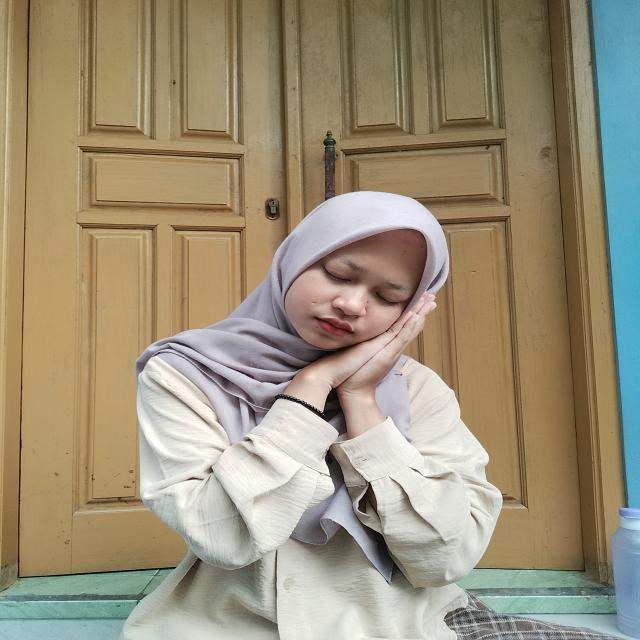tidur: (258, 284, 441, 437)
